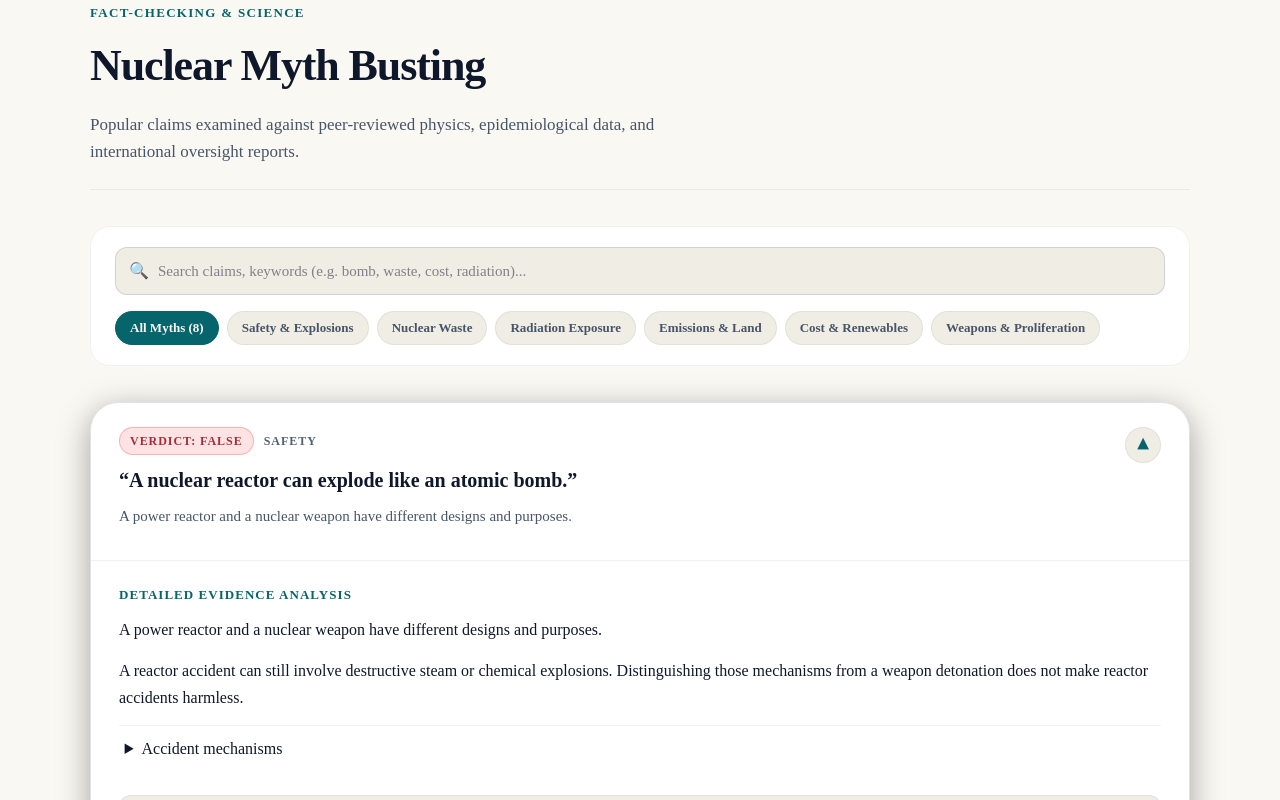
it: MythViewer › searches myths by keyword
The width and height of the screenshot is (1280, 800).
Replace the text in the search field named "Search myths" with "banana" at (640, 271), box x1=115 y1=247 x2=1165 y2=295
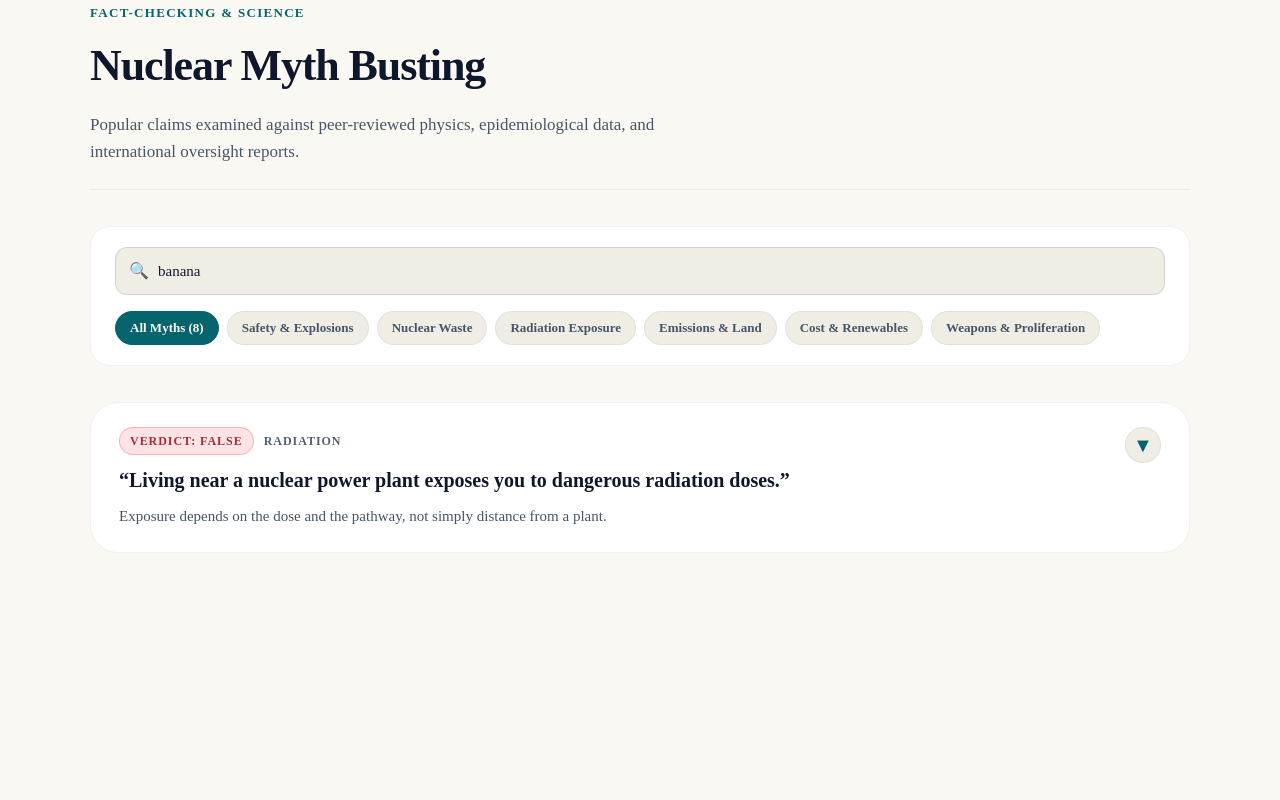
Expected: the heading "“Living near a nuclear power plant exposes you to dangerous radiation doses.”" is shown, x1=119 y1=469 x2=790 y2=491
Result: the button "“A nuclear reactor can explode like an atomic bomb.”" is gone
